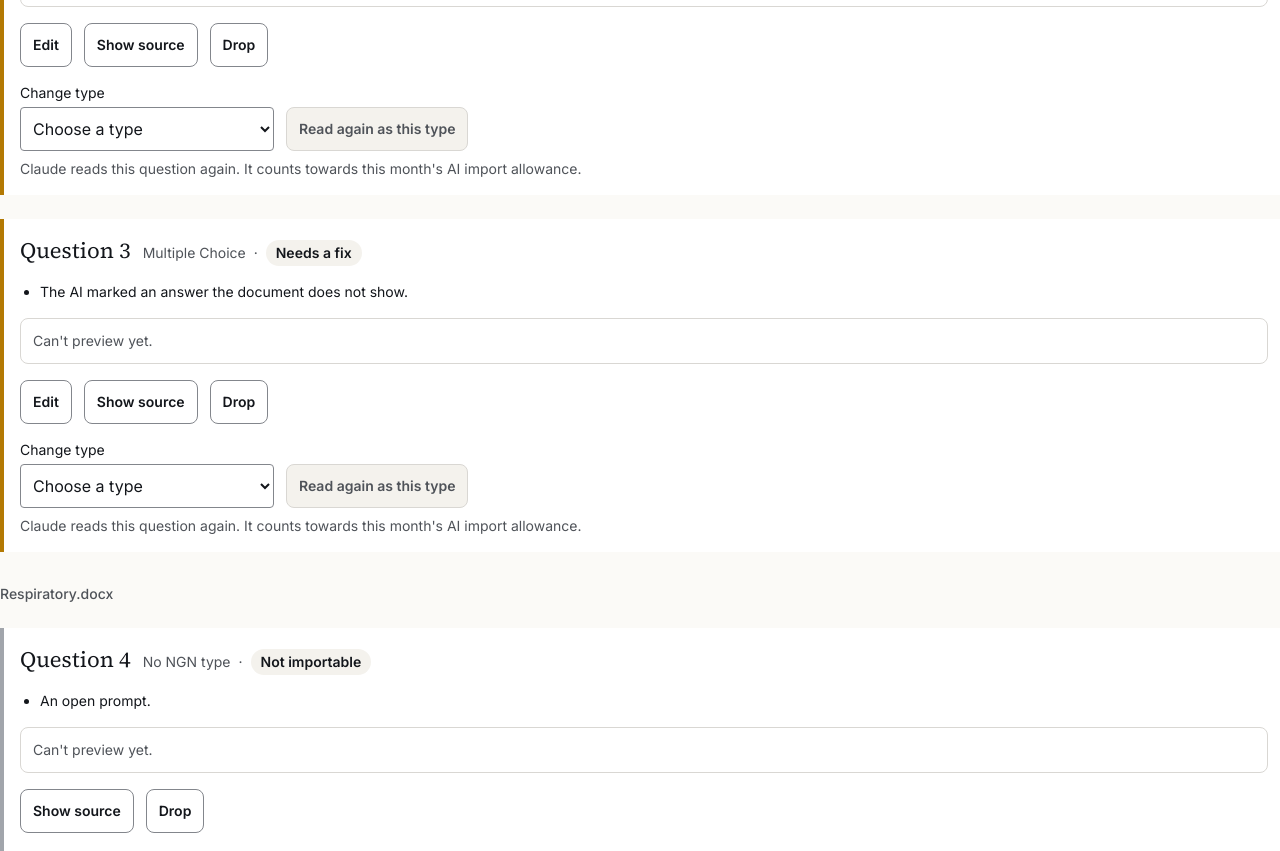
AiImportReview (#346) › drops a question with the version it showed, and the import count follows
(page scrolled)
Step 1. Click the button "Drop" below "Question 3" → x=239, y=402, box [210,380,268,424]
(page scrolled)
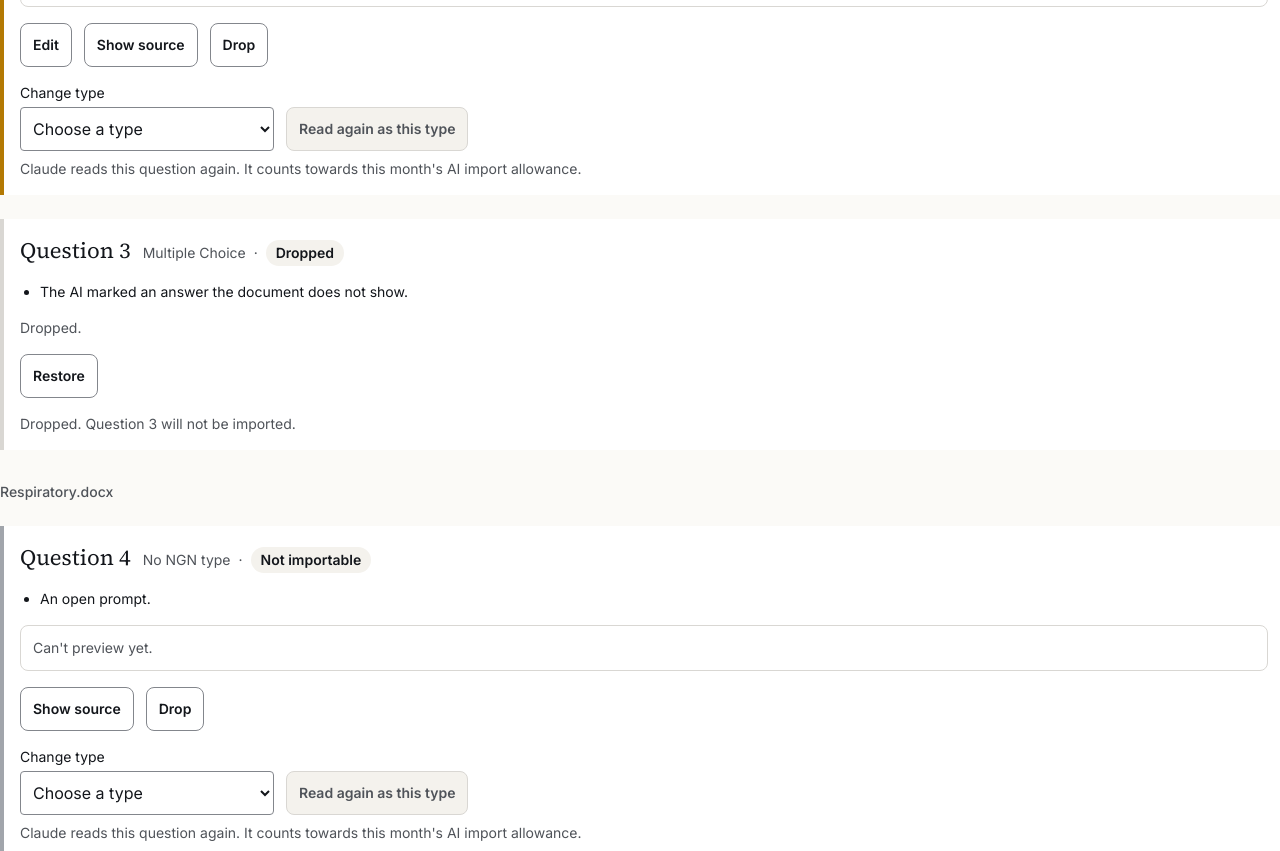
Expected: the message shows "Dropped.", [20,416,296,432]
Step 2. Click the button "Restore" → x=59, y=376, box [20,354,98,398]
(page scrolled)
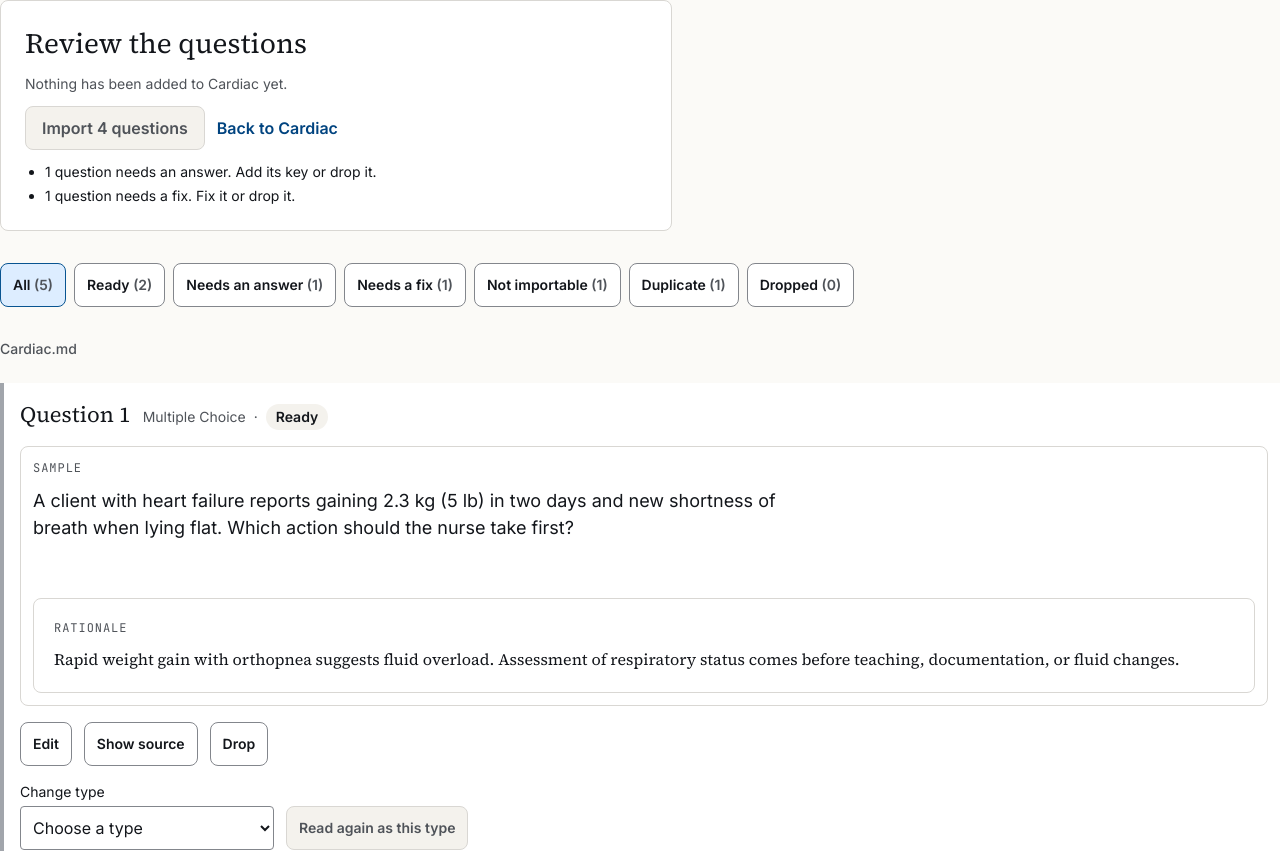
Expected: the button with test id "import-button" reads "Import 4 questions", [25,106,205,150]
